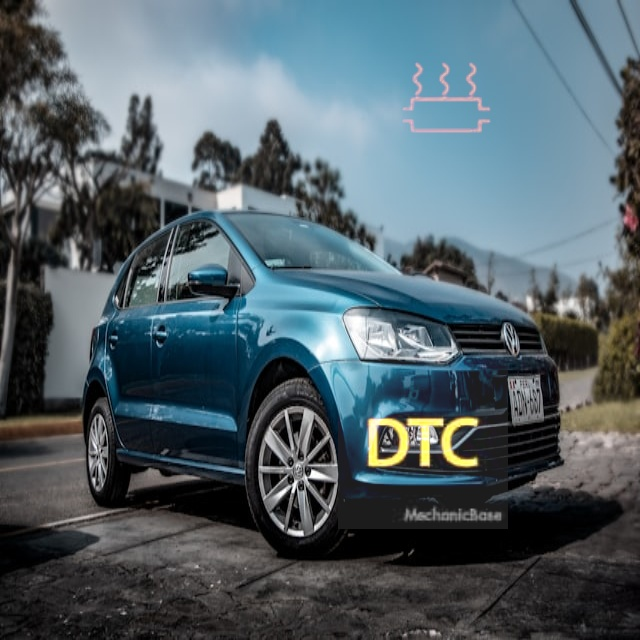symbol: (361, 13, 532, 184), (338, 359, 508, 529)
